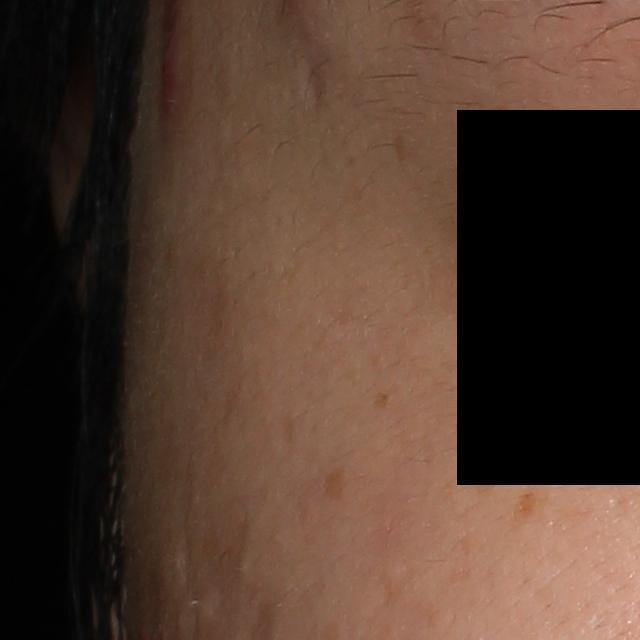atrophic_scar: (292, 42, 338, 125)
melasma: (508, 491, 539, 528), (321, 462, 347, 502), (373, 388, 392, 410)
papule: (158, 41, 189, 101)
